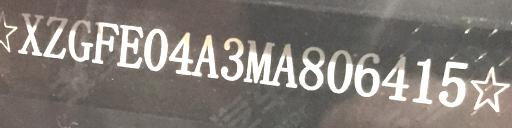letter: (242, 37, 276, 87), (438, 59, 468, 110), (191, 32, 221, 82), (296, 44, 326, 92), (90, 19, 120, 67), (380, 50, 408, 101), (326, 46, 354, 96), (116, 23, 144, 72), (271, 41, 299, 89), (410, 56, 436, 106), (42, 13, 68, 62), (354, 50, 380, 98), (67, 17, 93, 65), (17, 10, 43, 57), (142, 27, 168, 72), (220, 35, 244, 83), (169, 30, 193, 77)
